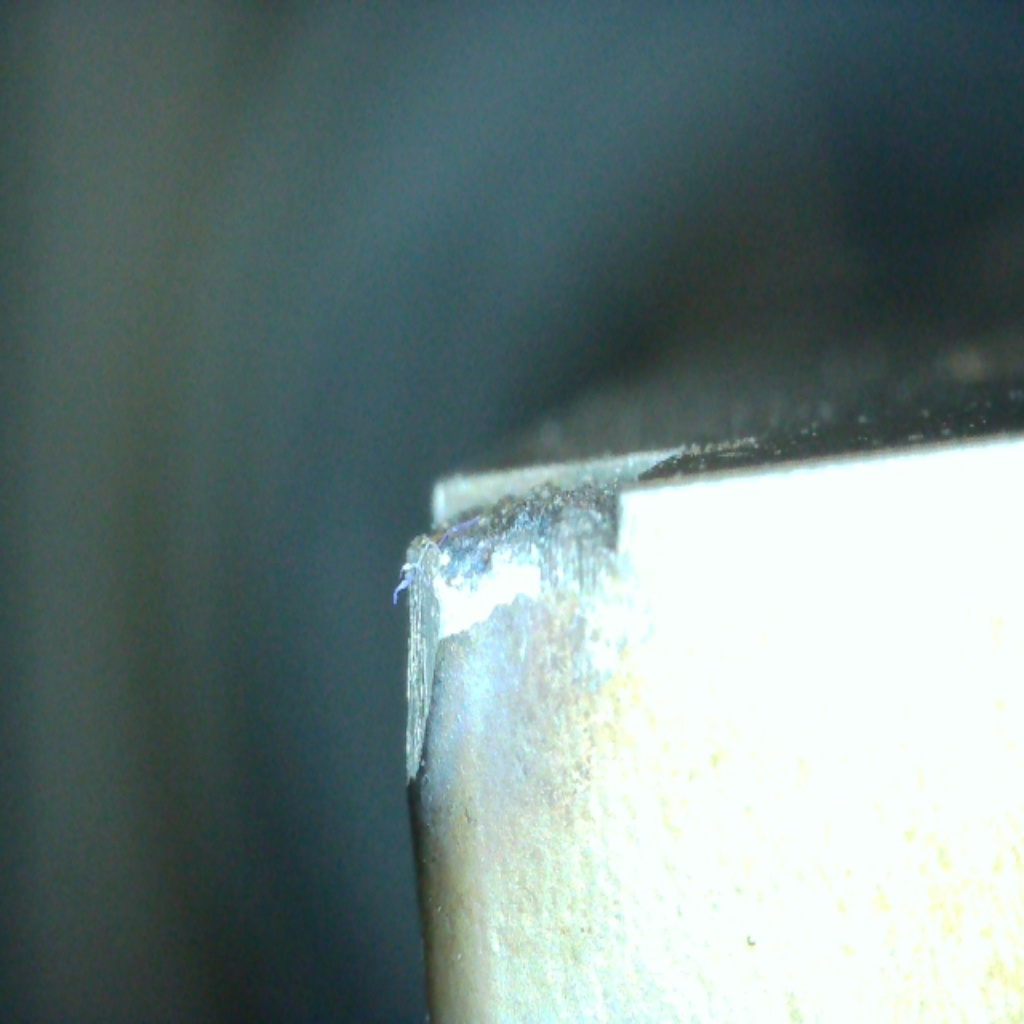flank_wear: (403, 547, 543, 796)
